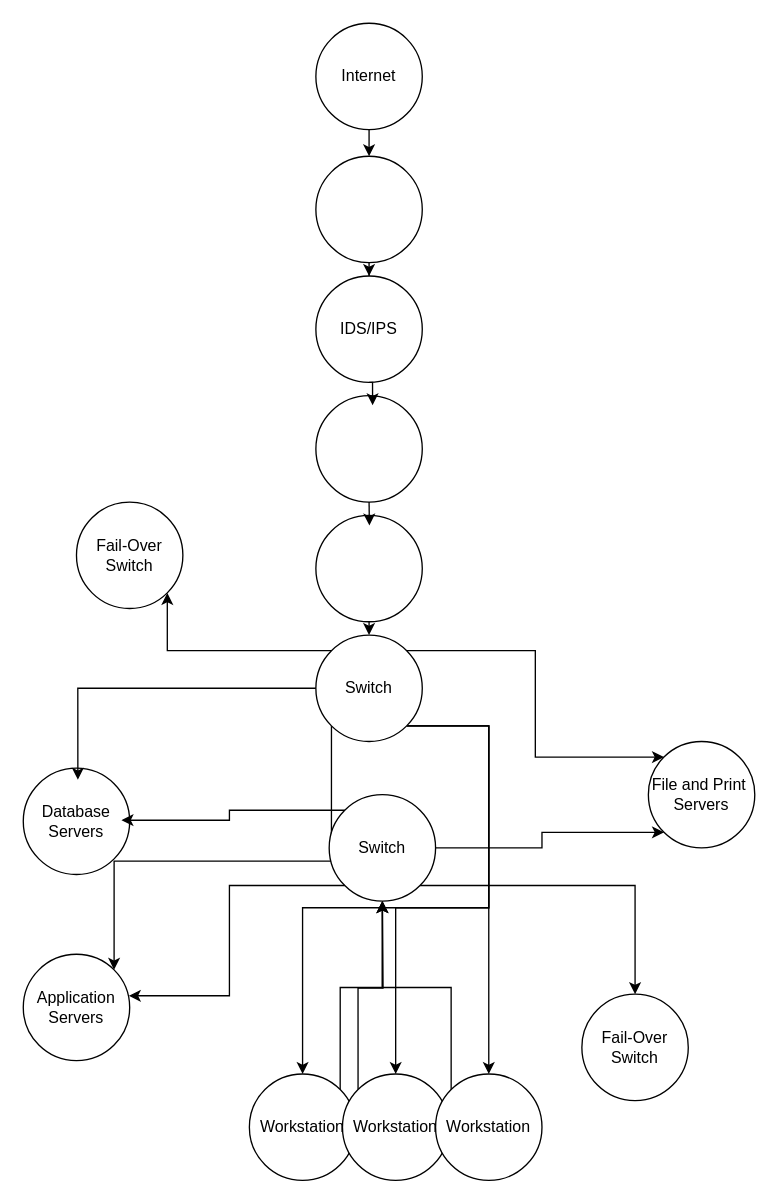
Some shapes in this 778 by 1204 pixel diagram are drawn without their labels. Each missing label, with the centre of its shape:
"Border Firewall" belongs at pixel 368 209.
"Internal Firewall" belongs at pixel 368 568.
"Web Server" belongs at pixel 368 448.
